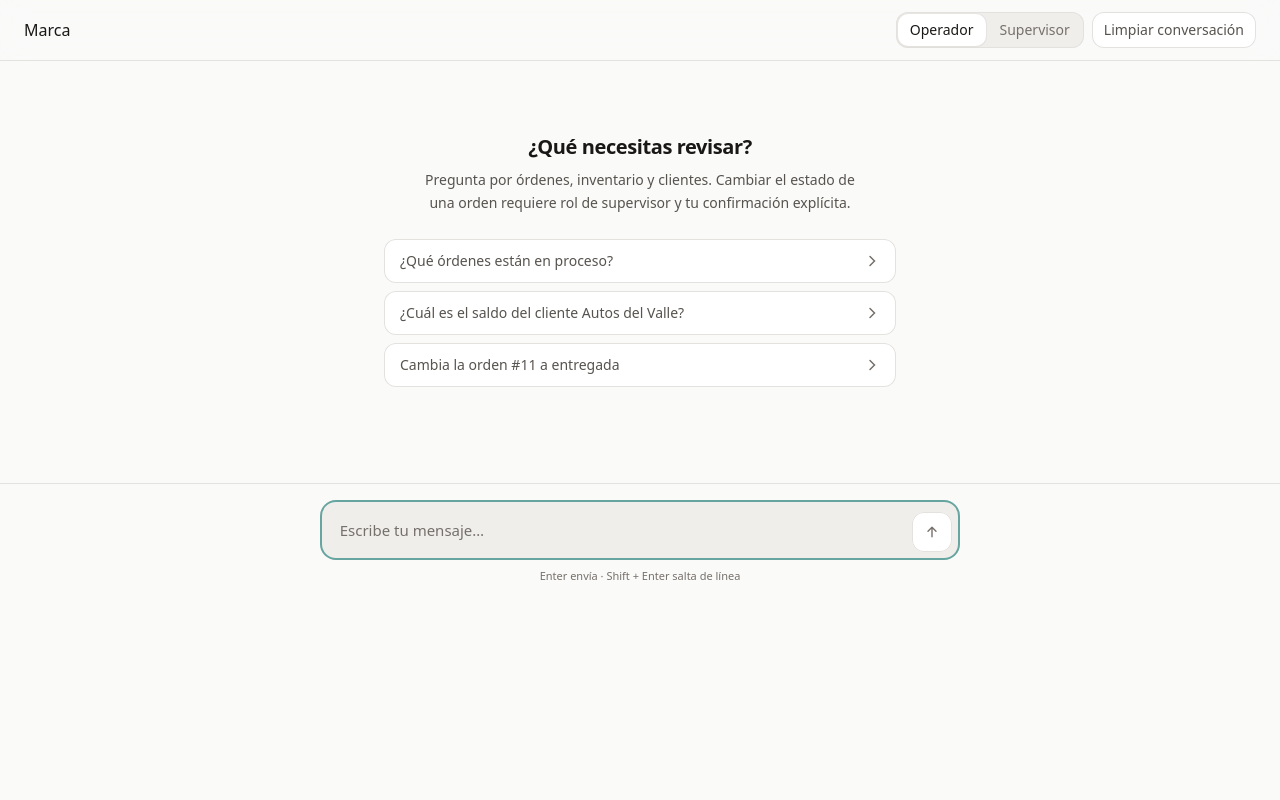
ChatWindow › shows an operator's refused write as a denial, never as a card
Type "cambia la orden #3 a entregada" into the text box labelled "Escribe tu mensaje…" at (616, 530), box [328,508,904,552]
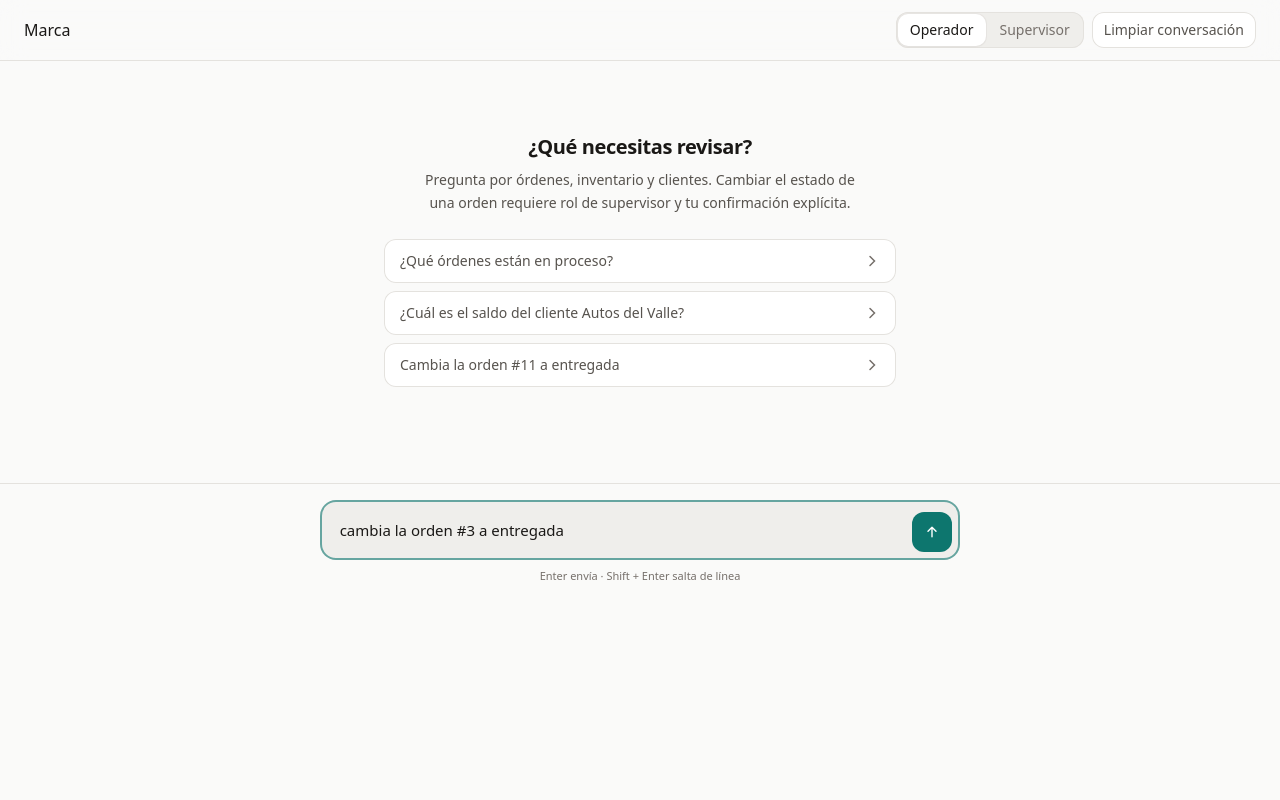
Click the button named "enviar" at (932, 532), box [912,512,952,552]
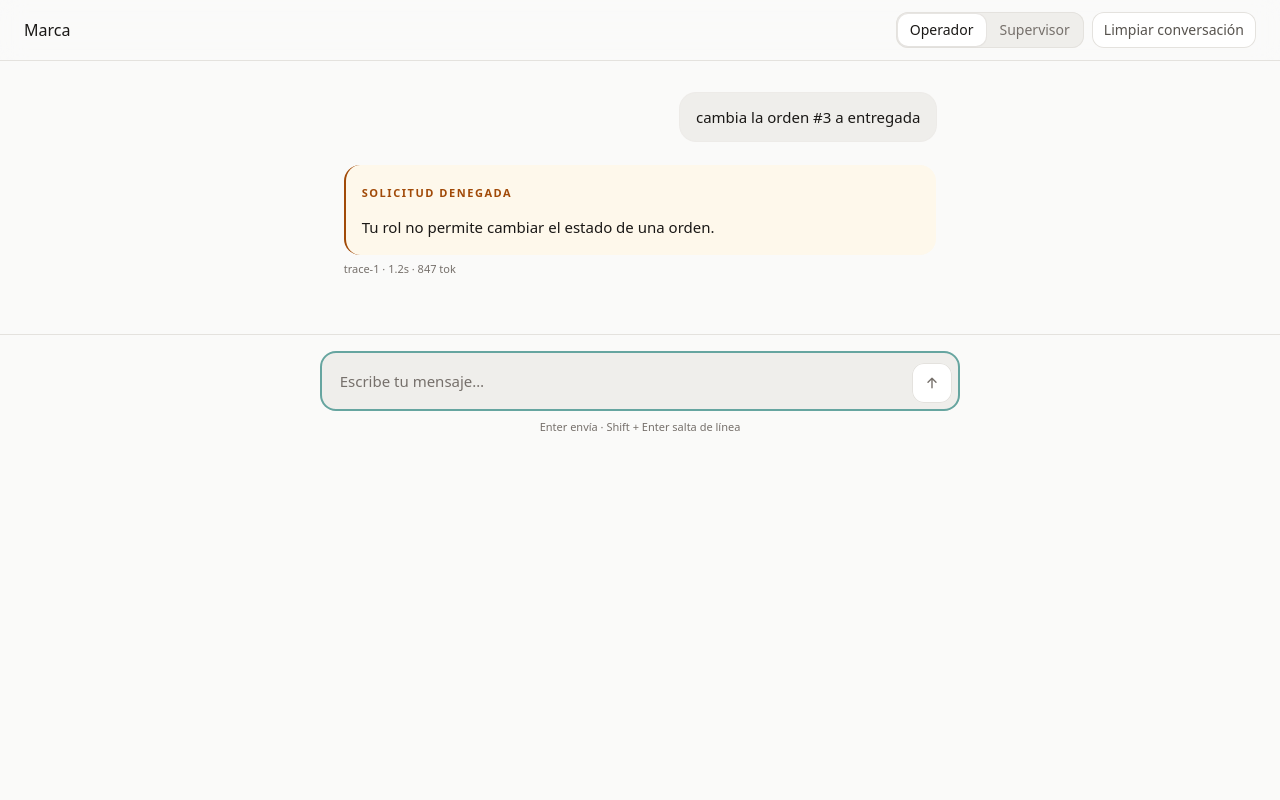
expect the text "Tu rol no permite cambiar el estado de una orden." is shown: met, box [362,217,714,237]
expect the text "Solicitud denegada" is shown: met, box [362,185,512,200]
